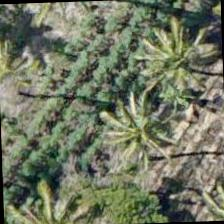Kelapa_Sawit: (93, 80, 186, 174), (132, 16, 223, 110), (0, 15, 58, 108)
